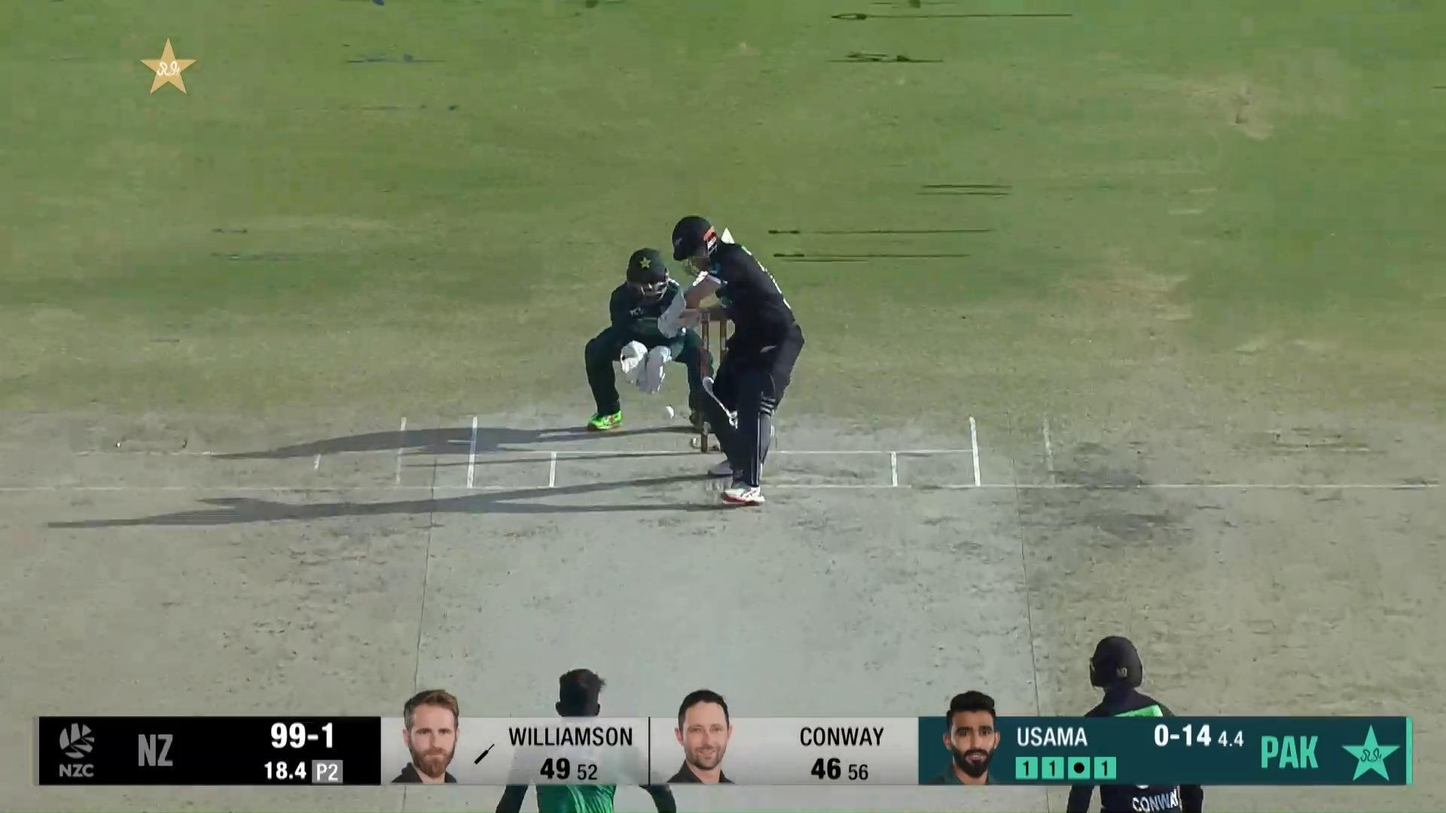BM 1: (657, 216, 808, 506)
BO: (493, 666, 675, 813)
